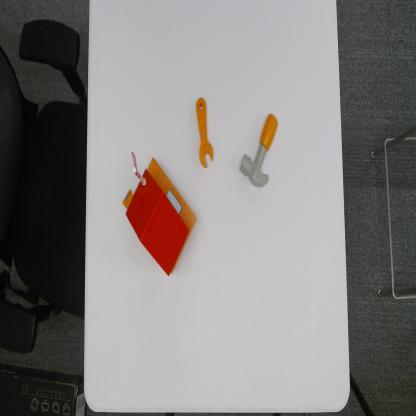Hammer: (239, 110, 279, 190)
House: (122, 151, 198, 281)
Screwdriver: (196, 94, 214, 170)
